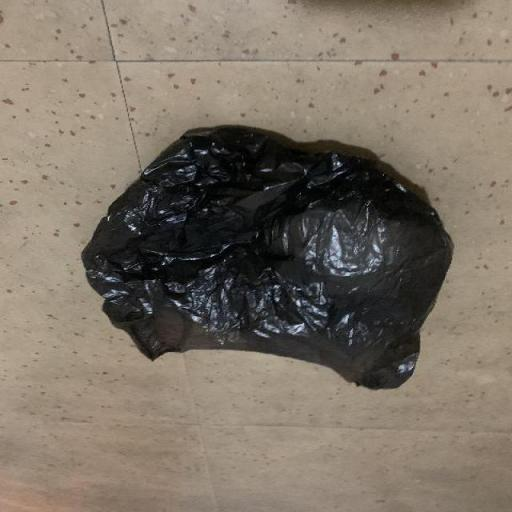plastic-bag: (82, 122, 456, 396)
